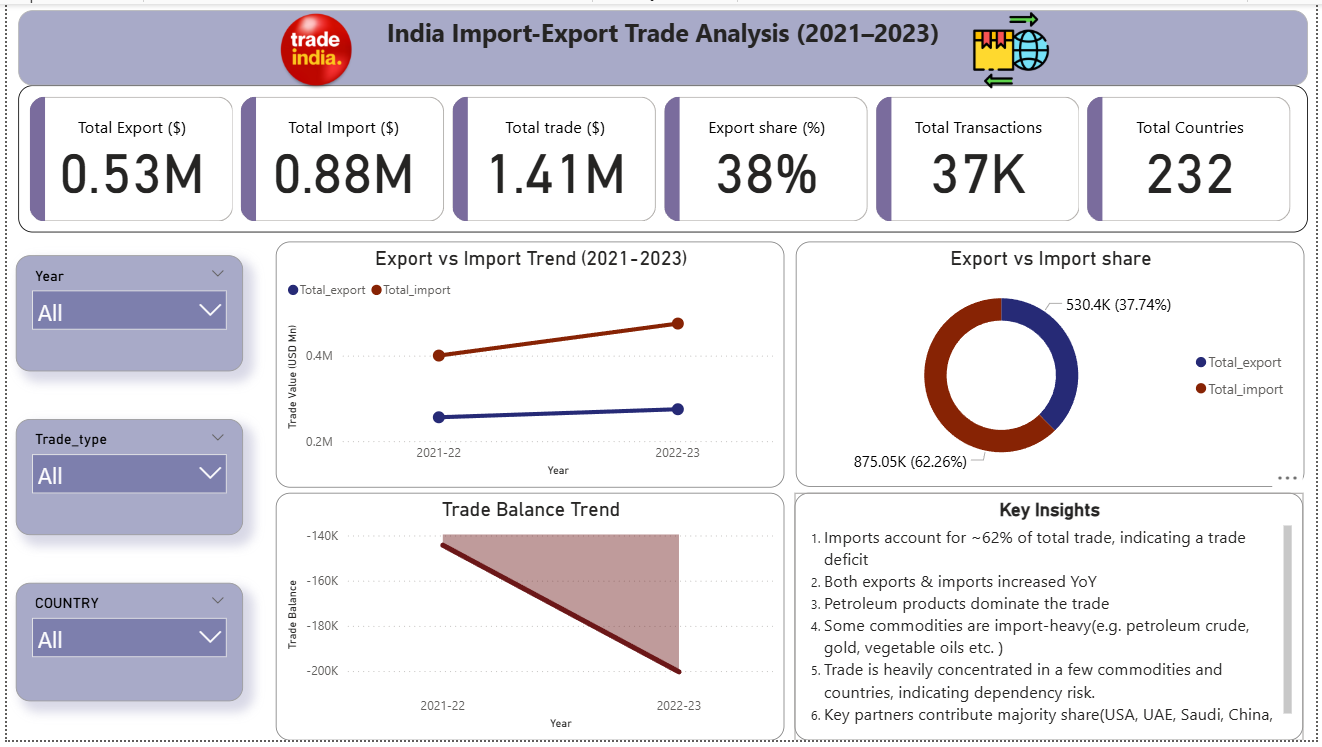

What the dashboard file says about the page in this screenshot:
{"tool":"powerbi","page":{"name":"Overview","canvas":[1280,720],"ordinal":0},"visuals":[{"type":"cardVisual","fields":{"Data":["Trade_data.Total_export","Trade_data.Total_import","Trade_data.Total_trade","Trade_data.Export %","Trade_data.Total_transactions","Count(Trade_data.COUNTRY)"]},"box":[11,79.5,1262,144.3],"z":0},{"type":"lineChart","title":"Export vs Import Trend (2021-2023)","fields":{"Y":["Trade_data.Total_export","Trade_data.Total_import"],"Category":["Trade_data.Year"]},"box":[262.9,232.1,497.7,240.9],"z":1000},{"type":"donutChart","title":"Export vs Import share","fields":{"Y":["Trade_data.Total_export","Trade_data.Total_import"]},"box":[771.6,232.3,497.7,239.7],"z":2000},{"type":"areaChart","title":"Trade Balance Trend","fields":{"Category":["Trade_data.Year"],"Y":["Trade_data.Trade_balance"]},"box":[262.9,478.1,497.7,242.1],"z":3000},{"type":"slicer","fields":{"Values":["Trade_data.Year"]},"box":[8.6,245.8,222.6,113.7],"z":4000},{"type":"slicer","fields":{"Values":["Trade_data.Trade_type"]},"box":[8.6,406,222.6,113.7],"z":5000},{"type":"slicer","fields":{"Values":["Trade_data.COUNTRY"]},"box":[8.6,566.2,222.6,116.2],"z":6000},{"type":"textbox","box":[11,6.1,1262,73.4],"z":7000},{"type":"image","box":[917.1,0,129.6,90.5],"z":8000},{"type":"image","box":[242.1,0,121.1,90.5],"z":9000},{"type":"textbox","title":"Key Insights","box":[770.4,477.6,497.8,242.4],"z":10000}]}

Visuals, with their boxes in screenshot pixels (x1, y1, x2, y2), scaled from the page's 1280x720 canvas onto the 1322x747 screenshot:
cardVisual - Trade_data.Total_export x Trade_data.Total_import: 11:82:1315:232
"Export vs Import Trend (2021-2023)" lineChart: 272:241:786:491
"Export vs Import share" donutChart: 797:241:1311:490
"Trade Balance Trend" areaChart: 272:496:786:746
slicer - Trade_data.Year: 9:255:239:373
slicer - Trade_data.Trade_type: 9:421:239:539
slicer - Trade_data.COUNTRY: 9:587:239:708
textbox: 11:6:1315:82
image: 947:0:1081:94
image: 250:0:375:94
"Key Insights" textbox: 796:496:1310:746
